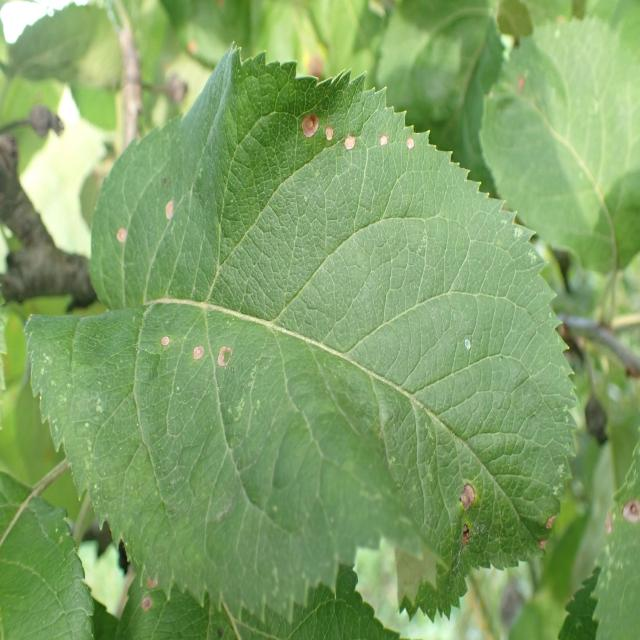Black Rot: (450, 464, 485, 570), (292, 80, 322, 146), (157, 181, 186, 246), (608, 474, 638, 536), (182, 336, 213, 388), (213, 340, 240, 399), (110, 213, 136, 269), (403, 128, 434, 168), (147, 317, 173, 363), (373, 118, 402, 158), (346, 124, 364, 176), (322, 113, 341, 156)
